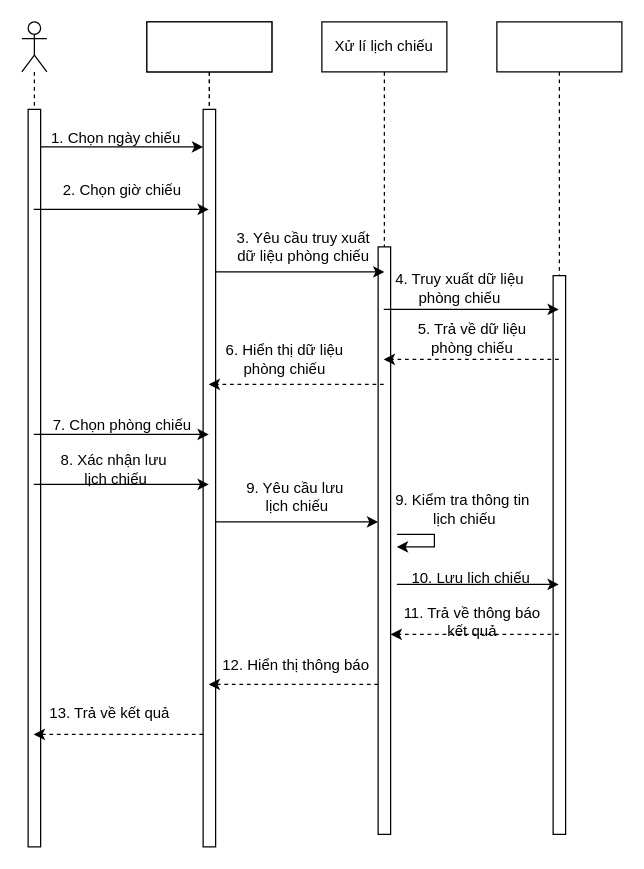
Image size: 644x869. Some labels were removed from this diagram. The box of each missing label's shape, as (x1, y1, x2, y2) in pixels:
Database: (496, 21, 622, 834)
Giao diện thiết lập lịch chiếu: (146, 21, 272, 847)
